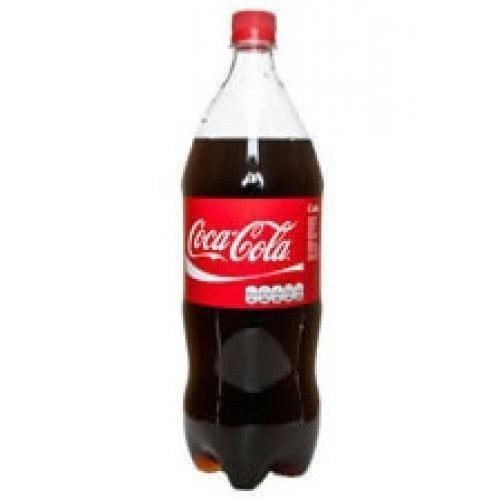bottle-plastic: (178, 4, 328, 496)
